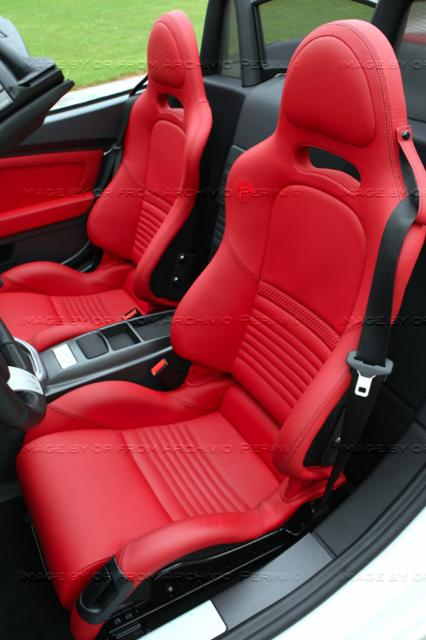Seatbelt: (312, 190, 420, 532)
